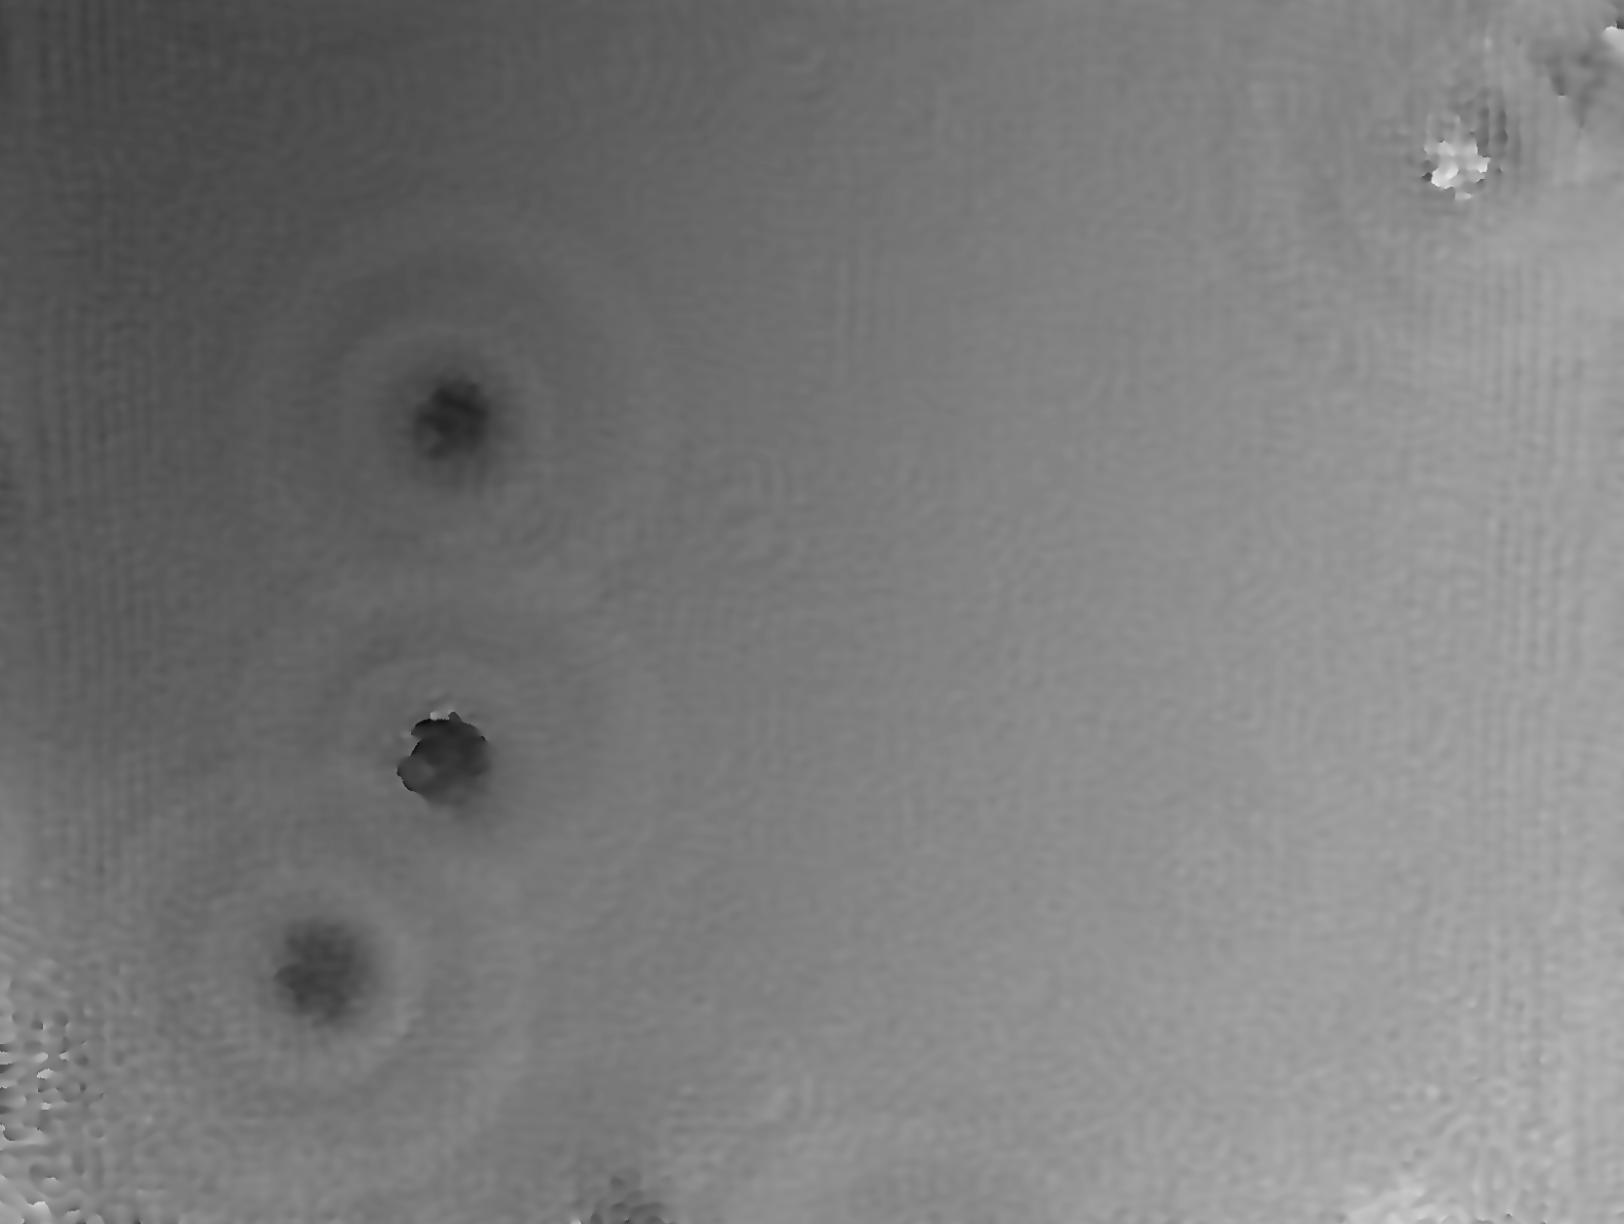cell: (292, 267, 621, 586), (314, 615, 602, 908), (189, 842, 468, 1104)
